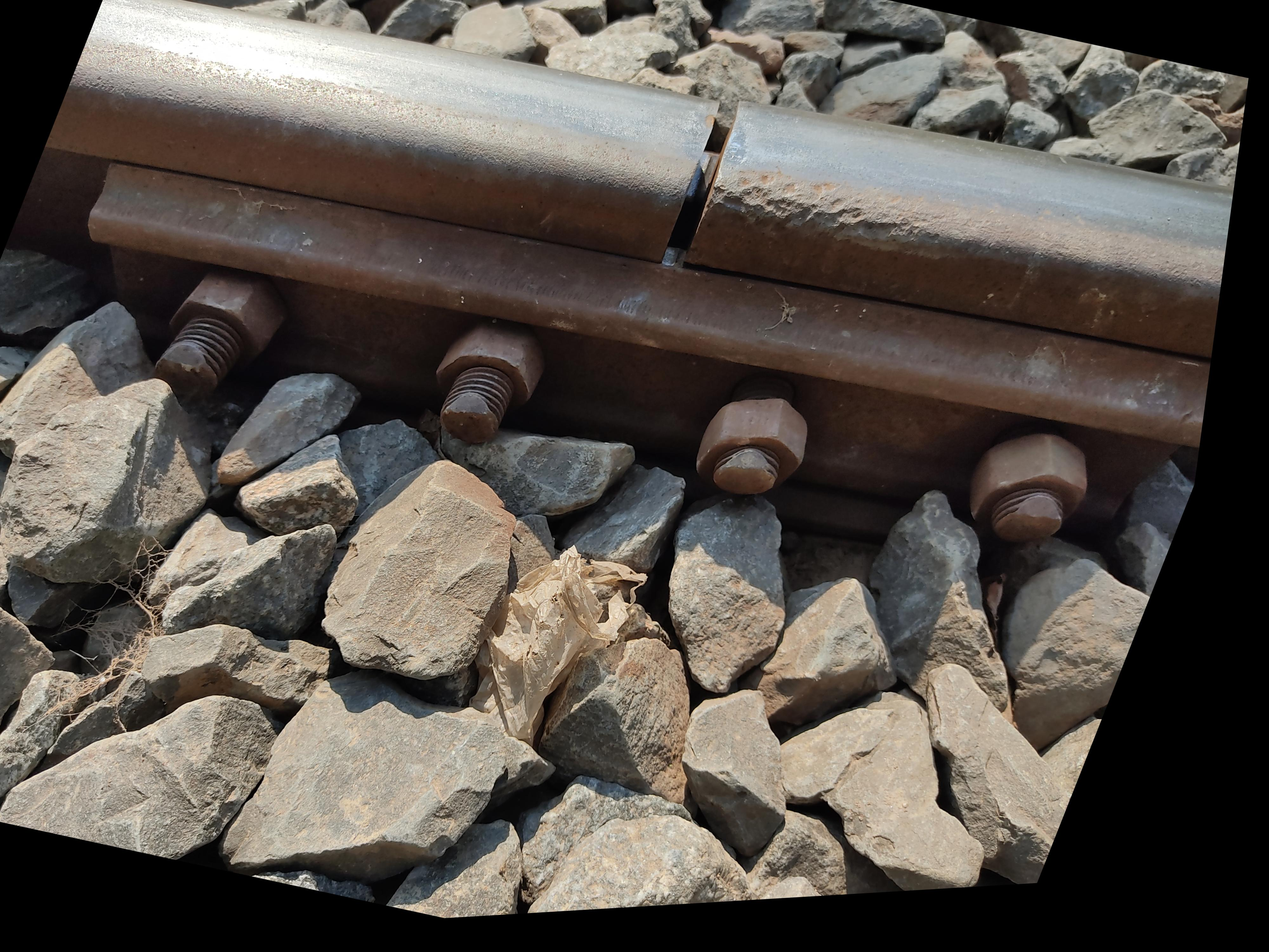person: (631, 0, 1077, 234)
